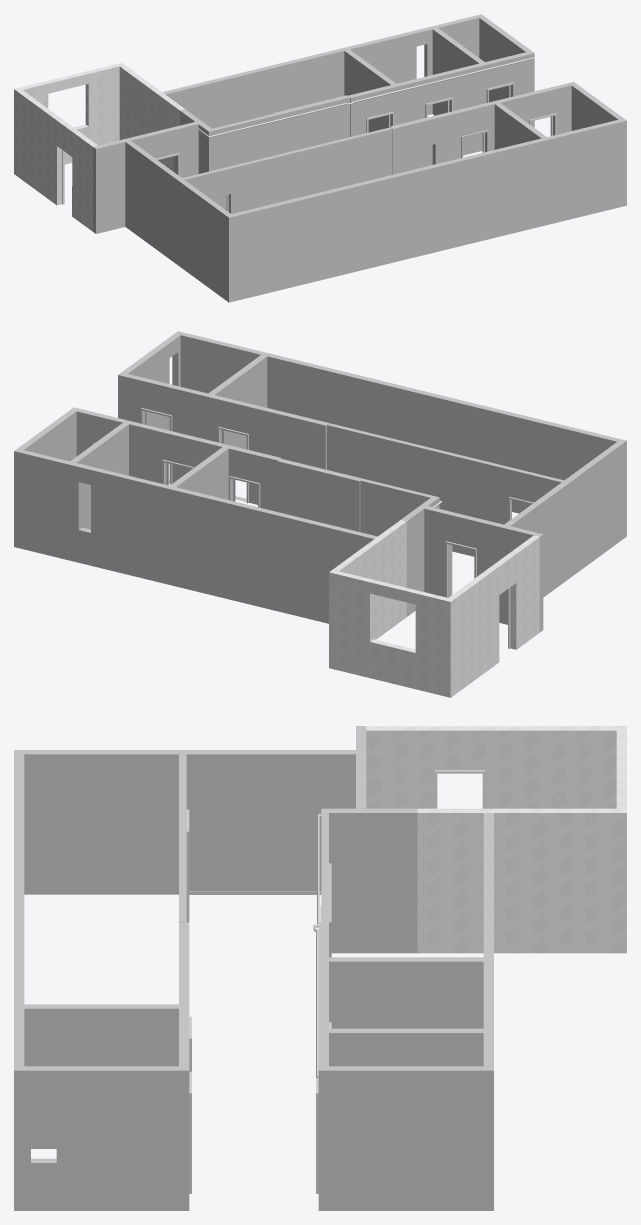
File: Scene total.fbx
3 renders of one model, top to bottom at view 1: azimuth 30°, elevation 25°; view 2: azimuth 150°, elevation 25°; view 3: azimuth 270°, elevation 25°, orthographic. The views are drawn at different scales.
Visible parts, largest first — view 1: Cube.009, Cube.008, Bureau_A043, Cube.011, Cube.002, Cube.010, Cylinder.002; view 2: Cube.009, Cube.008, Bureau_A043, Cube.011, Cube.002, Cube.010; view 3: Cube.009, Cube.008, Bureau_A043, Cube.011, Cube.002, Cylinder.002, Cube.010.
Part boxes in pixels (box(x1,y1,x2,y2)): Cube.009: box(292, 14, 626, 251); Cube.008: box(125, 109, 437, 302); Bureau_A043: box(14, 63, 184, 231); Cube.011: box(162, 60, 295, 128); Cube.002: box(93, 120, 203, 233); Cube.010: box(273, 95, 349, 154); Cylinder.002: box(197, 57, 534, 137); Cube.009: box(14, 331, 391, 598); Cube.008: box(327, 383, 626, 616); Bureau_A043: box(329, 520, 539, 697); Cube.011: box(227, 500, 377, 623); Cube.002: box(418, 504, 543, 632); Cube.010: box(277, 458, 362, 531); Cube.009: box(14, 918, 493, 1210); Cube.008: box(14, 750, 417, 953); Bureau_A043: box(366, 726, 626, 953); Cube.011: box(483, 813, 493, 917); Cube.002: box(356, 726, 366, 812); Cylinder.002: box(313, 814, 321, 1078); Cube.010: box(321, 863, 331, 957).
Size of the model in its own units: 1579 by 300 by 1188.
